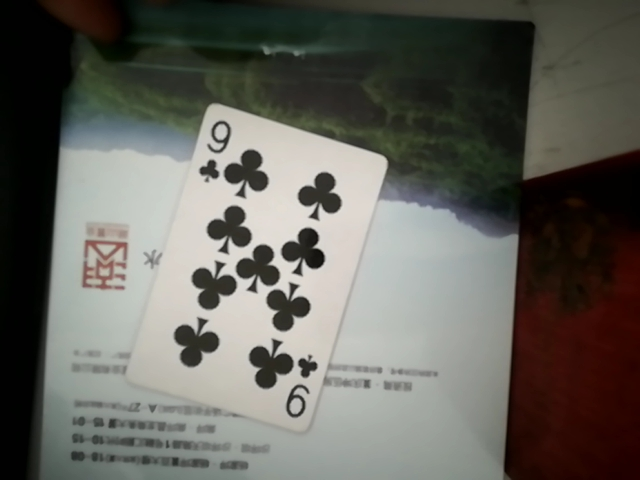mh 9: (131, 97, 383, 438)
